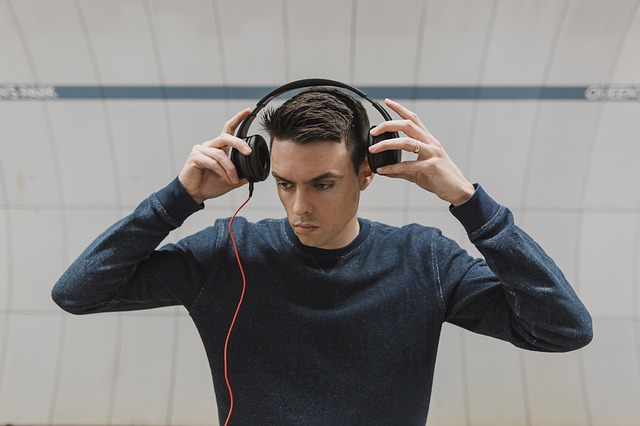headphones: (230, 78, 402, 183)
